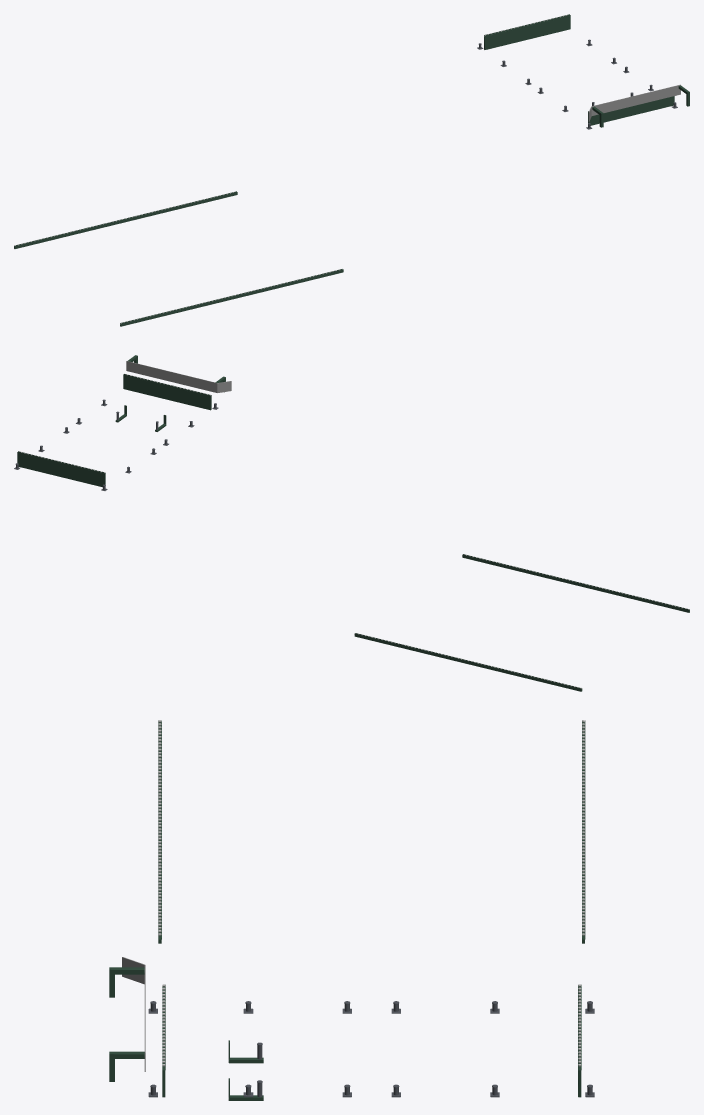
Rendered from stacker_far_fence.glb.
3 renders of one model, top to bottom at view 1: azimuth 30°, elevation 25°; view 2: azimuth 150°, elevation 25°; view 3: azimuth 270°, elevation 25°, orthographic. The views are drawn at different scales.
Parts seen in each view (by area): view 1: FarFencePosts, FarFence; view 2: FarFencePosts, FarFence; view 3: FarFencePosts, ShortBoardSkids, FarFenceCylinders.
Boxes of the visible parts, x1=… form: FarFencePosts: x1=14, y1=14, x2=689, y2=326; FarFence: x1=588, y1=84, x2=680, y2=121; FarFencePosts: x1=17, y1=355, x2=689, y2=691; FarFence: x1=126, y1=361, x2=231, y2=392; FarFencePosts: x1=109, y1=720, x2=585, y2=1100; ShortBoardSkids: x1=158, y1=720, x2=584, y2=1066; FarFenceCylinders: x1=148, y1=1001, x2=594, y2=1097.
Bounding box in the file's own units: 13.67 × 2.55 × 5.16.
